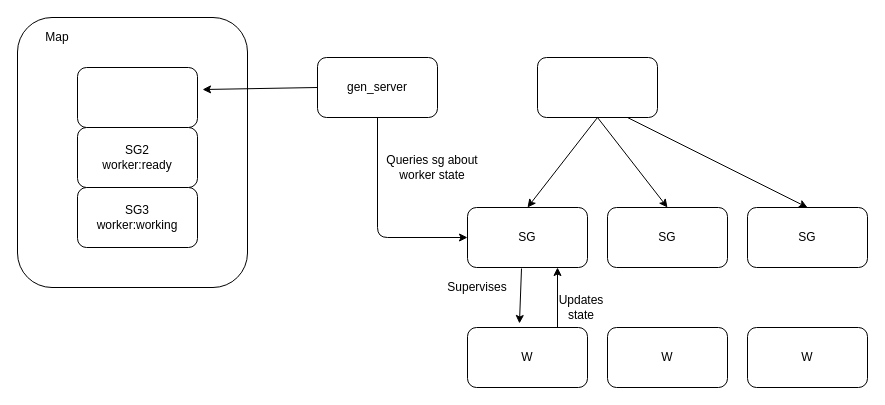
The diagram is 885 pixels wide and 405 high, and some of its shapes have lost their labels. The centre of each missing label's shape, as x and y in pixels:
SG Supervisor: point 597,87
SG1 worker:ready: point 137,97
